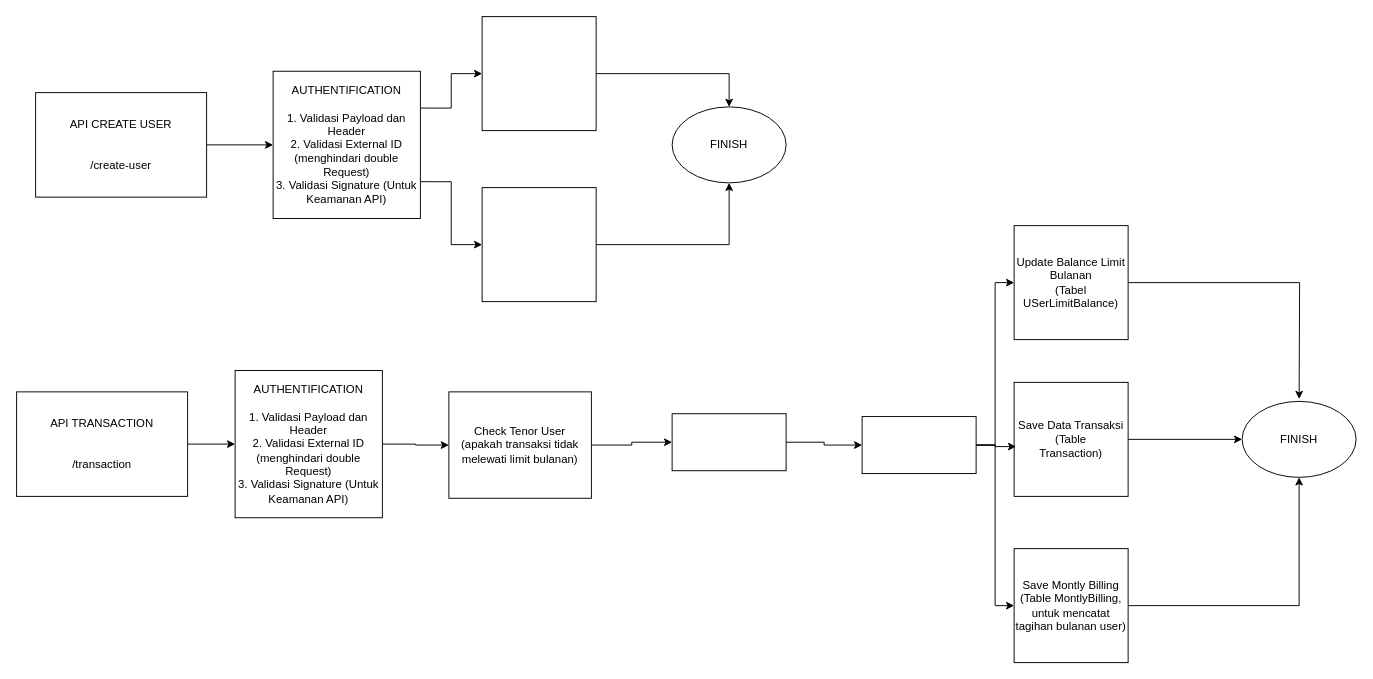
The diagram is 1373 pixels wide and 679 high, and some of its shapes have lost their labels. Each missing label, with the box of its shape:
Kalkulasi Jumlah Cicilan berdasarkan Tenor, Bunga dan OTR: (671, 413, 786, 471)
Save Data Limit User (Tabel UserLimitBalance): (481, 187, 596, 302)
Save Data User (table User): (481, 16, 596, 131)
TRANSAKSI: (861, 416, 976, 474)
